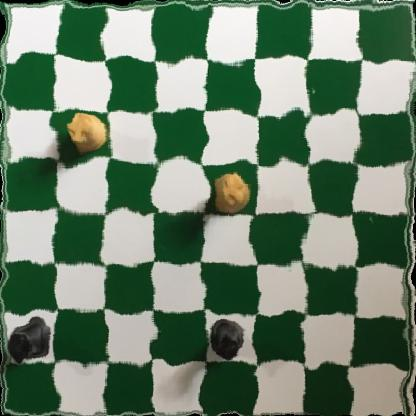black-rook: (3, 317, 55, 363), (206, 316, 249, 361)
white-rook: (202, 170, 250, 214), (67, 108, 108, 158)
